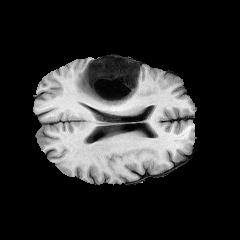glioma: (73, 57, 141, 109)
